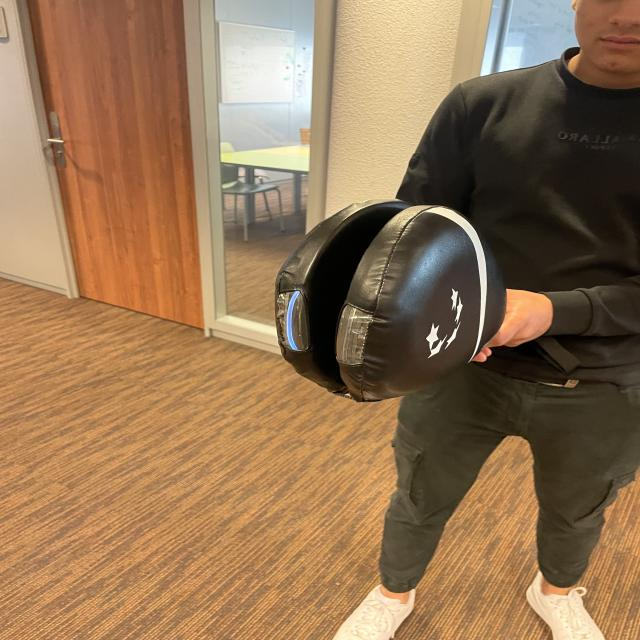paddle: (275, 202, 500, 403)
trigger: (278, 286, 304, 352)
